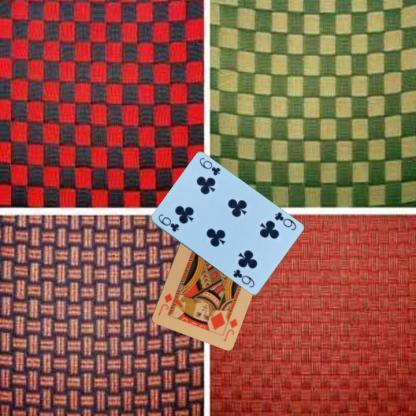6c: (272, 209, 298, 232), (156, 211, 180, 233)
Jd: (221, 315, 239, 342)
